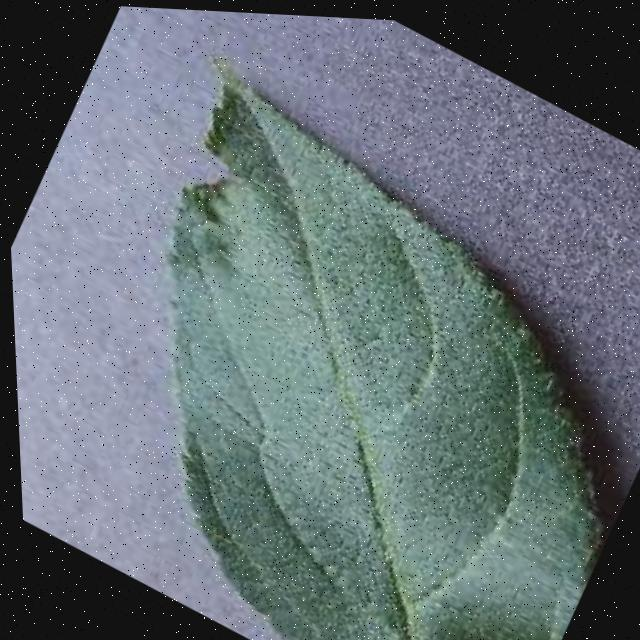healthy: (1, 25, 640, 640)
